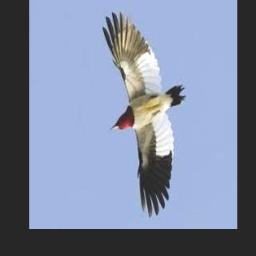Woodpecker: (103, 13, 186, 218)
